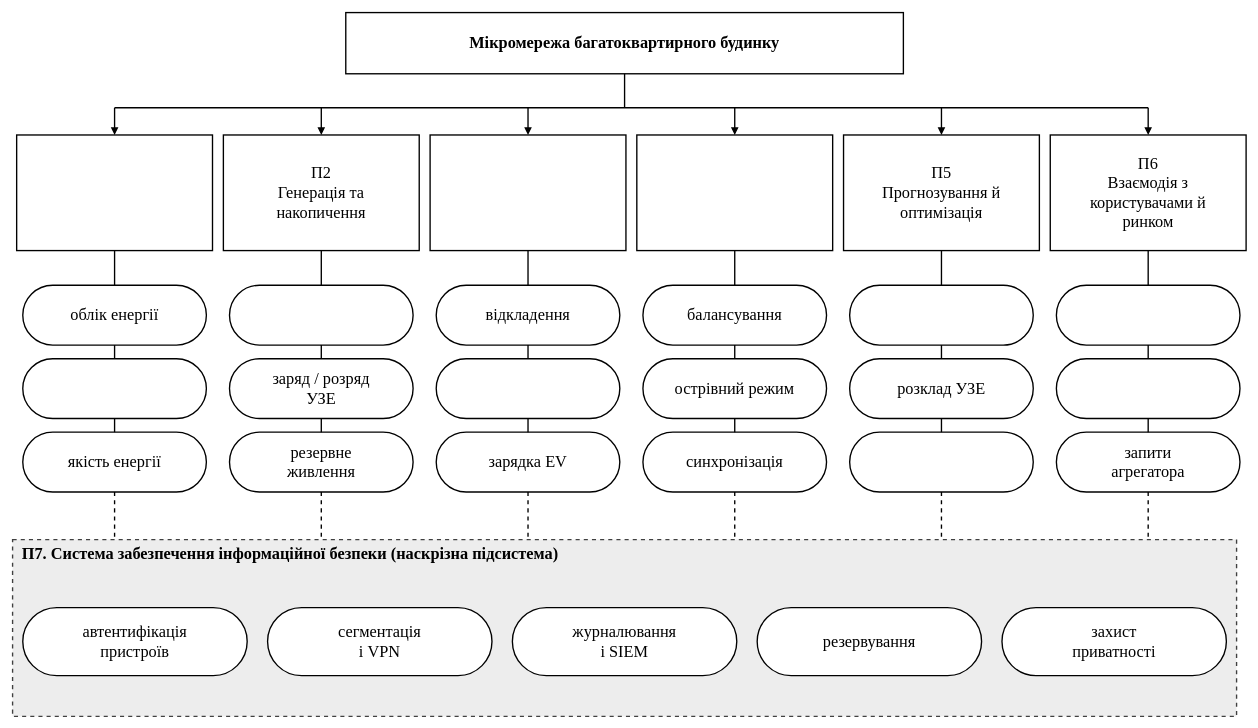
Some shapes in this 1258 by 728 pixel diagram are drawn without their labels. Here are the shapes that lost their labels. From the top down, the box of each, then its label:
(16, 134, 213, 251): П1 Вимірювання та облік
(429, 134, 626, 251): П3 Керування навантаженням
(636, 134, 833, 251): П4 Керування мікромережею
(228, 284, 413, 345): генерація СЕС
(849, 284, 1034, 345): прогноз (ШІ)
(1055, 284, 1240, 345): застосунок, АРМ
(22, 358, 207, 419): профілі навантаження
(435, 358, 620, 419): обмеження
(1055, 358, 1240, 419): обмін з ОСР
(849, 431, 1034, 492): цифровий двійник
